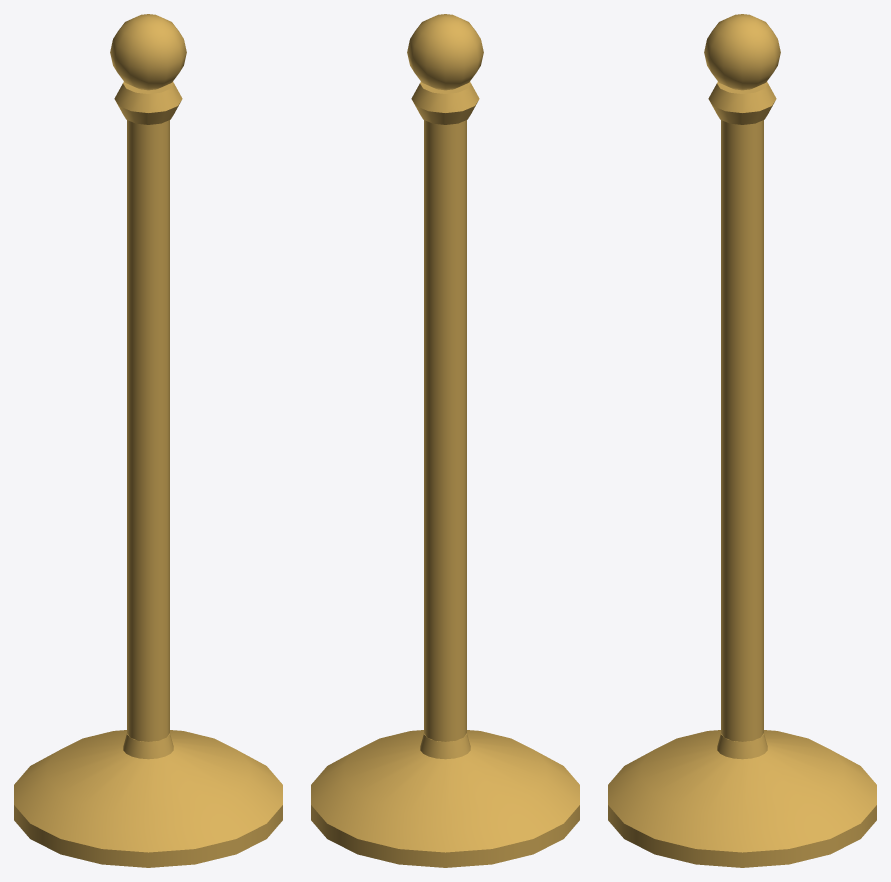
File: rope_post.glb
The picture shows the model from 3 angles, left to right: view 1: azimuth 30°, elevation 25°; view 2: azimuth 150°, elevation 25°; view 3: azimuth 270°, elevation 25°; orthographic projection.
Parts seen in each view (by area): view 1: rope_post; view 2: rope_post; view 3: rope_post.
Part boxes in pixels (x1,y1,x2,y2): rope_post: (14,14,282,867); rope_post: (311,14,579,867); rope_post: (608,14,876,867).
Bounding box in the file's own units: 0.32 × 1.02 × 0.3151.
